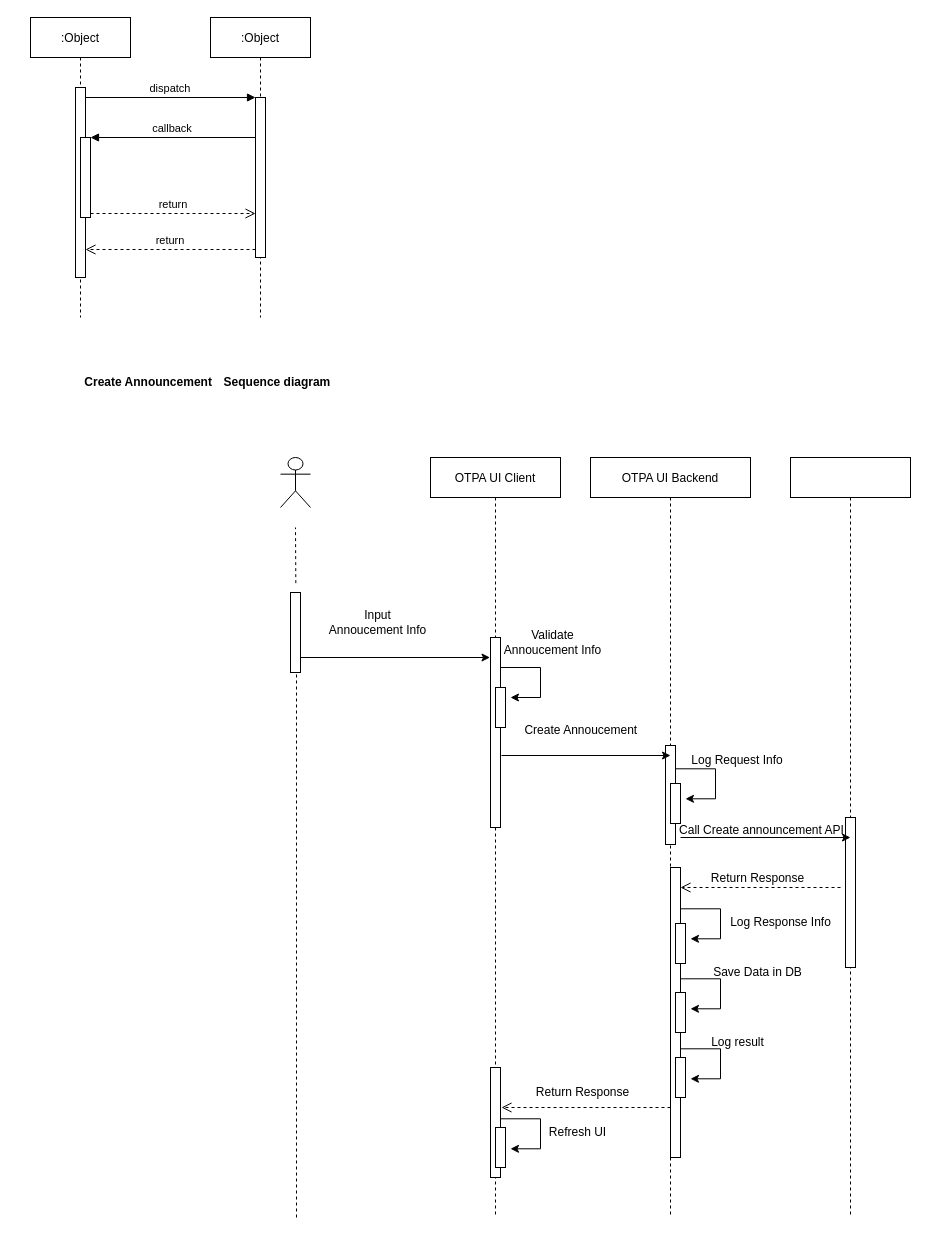
This 928x1236 diagram has some shape labels left out. The shapes that lost their labels are listed below. From the top down, each one's centre as x and y in pixels, then its label:
At point 295,482: "User".
At point 850,837: "OTPA AE".
